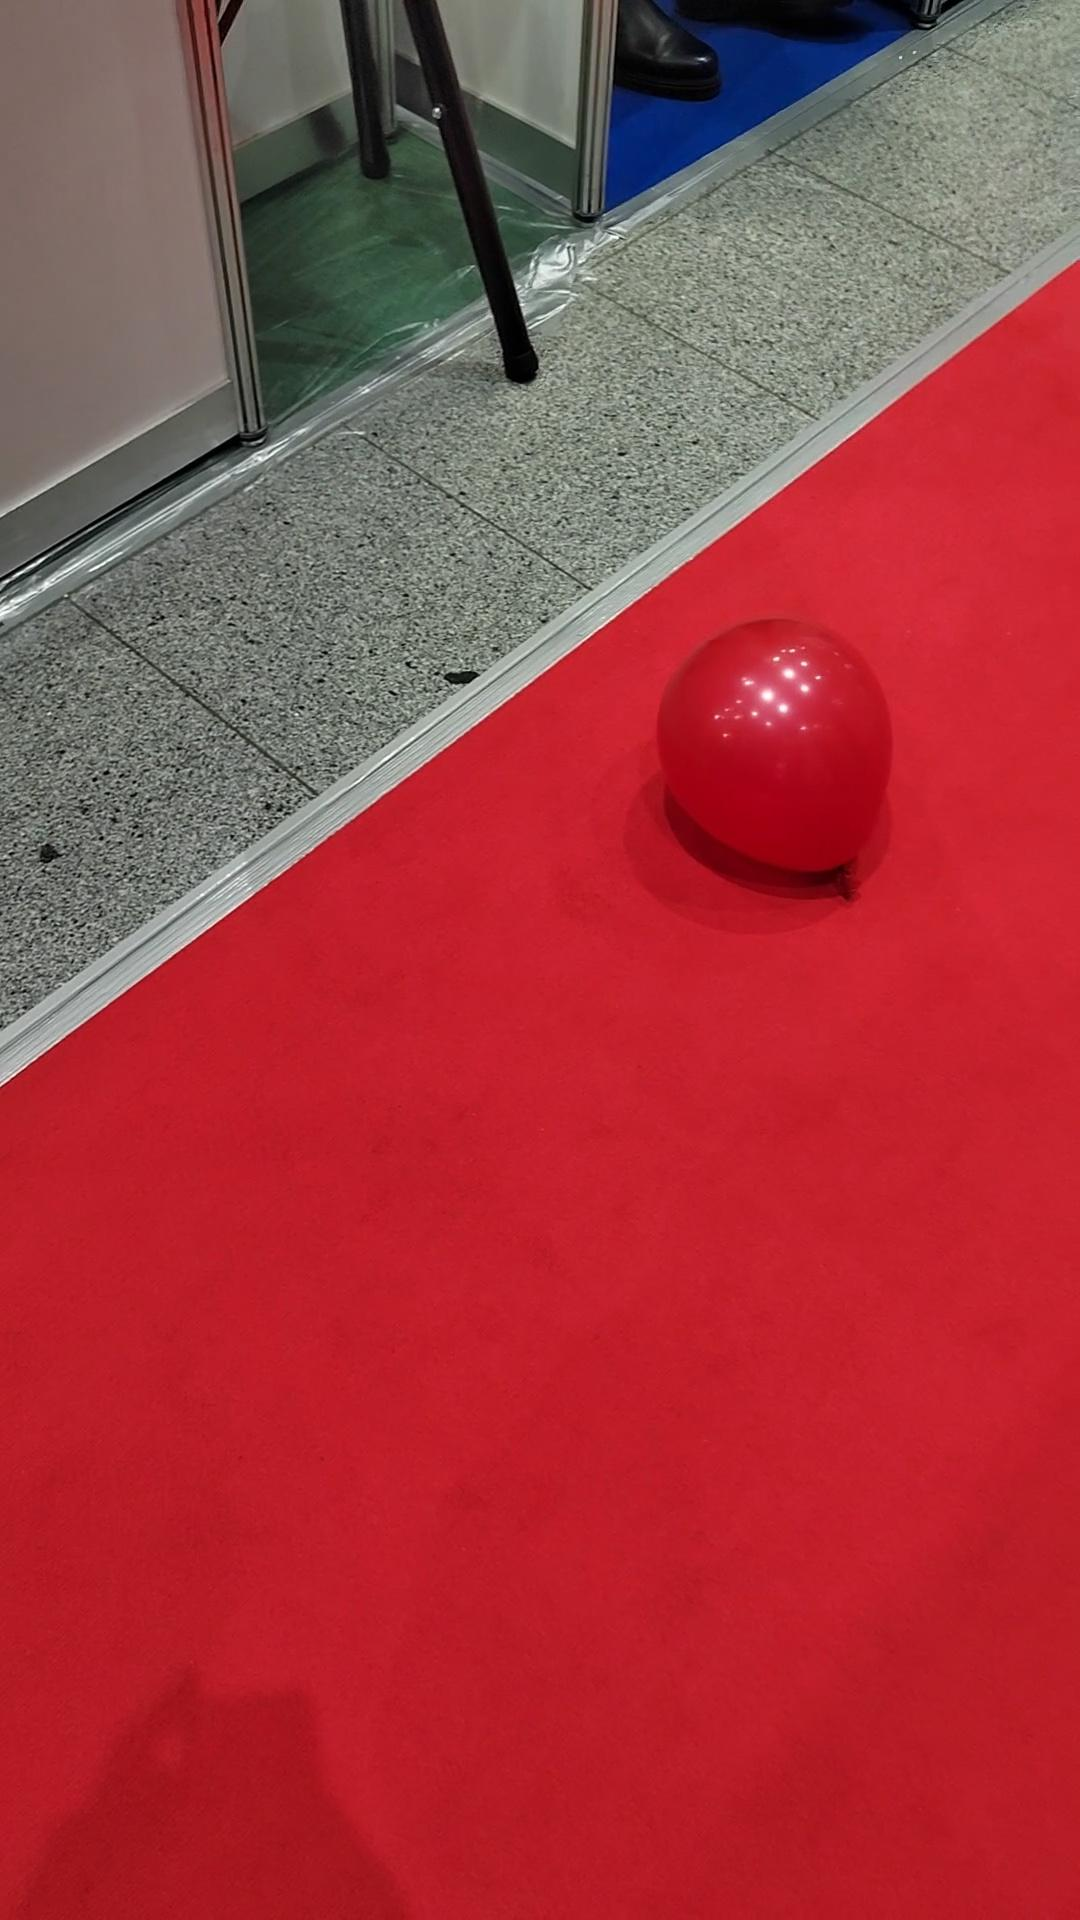red: (646, 615, 894, 874)
